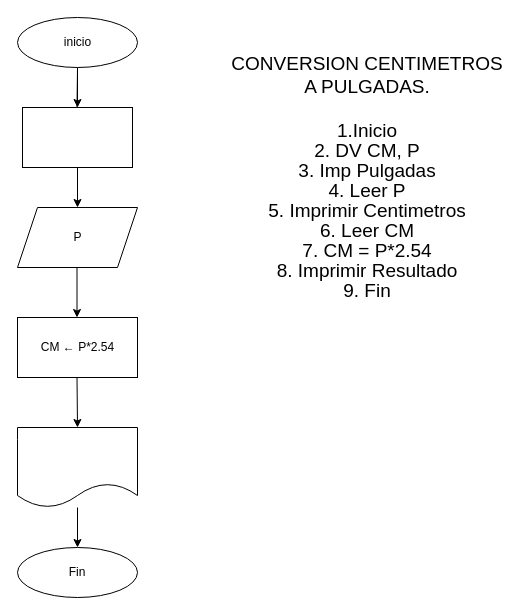
Some shapes in this 525 by 615 pixel diagram are drawn without their labels. The centre of each missing label's shape, as x and y in pixels:
cm=0 P=0: (x=77, y=137)
La cant. de centimetros equivalente a P es: CM: (x=77, y=467)
